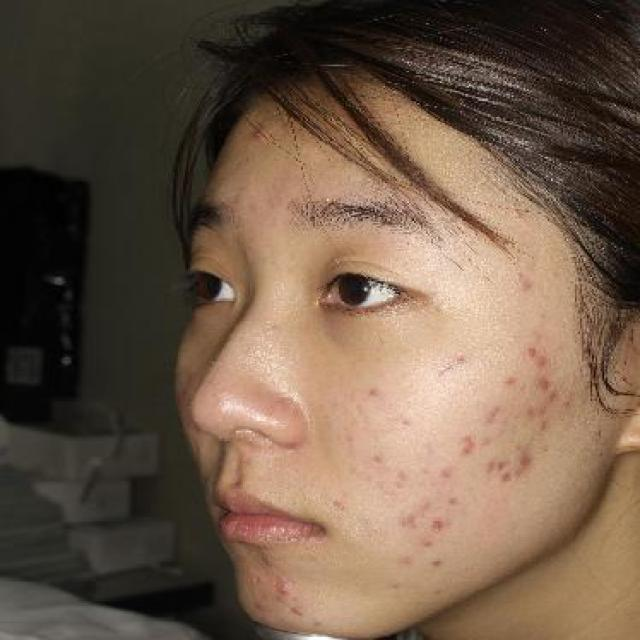Acne: (390, 508, 436, 537), (481, 402, 508, 431), (455, 428, 479, 458), (528, 373, 562, 394), (510, 448, 542, 470), (512, 272, 540, 297), (390, 464, 413, 494), (516, 401, 543, 422), (483, 457, 510, 477), (428, 512, 450, 536), (365, 451, 390, 471), (284, 602, 311, 620), (496, 469, 520, 489), (536, 415, 555, 439), (499, 370, 524, 388), (450, 351, 472, 371), (328, 497, 352, 515), (363, 383, 383, 403), (400, 412, 420, 432), (396, 550, 417, 569), (429, 582, 450, 601), (542, 391, 564, 408), (418, 534, 438, 552), (386, 578, 407, 594), (445, 492, 465, 508), (428, 555, 448, 571), (478, 434, 498, 450), (438, 466, 457, 482), (534, 354, 553, 369), (561, 398, 577, 414), (524, 346, 542, 359)
Whiteheads: (271, 582, 299, 600)
